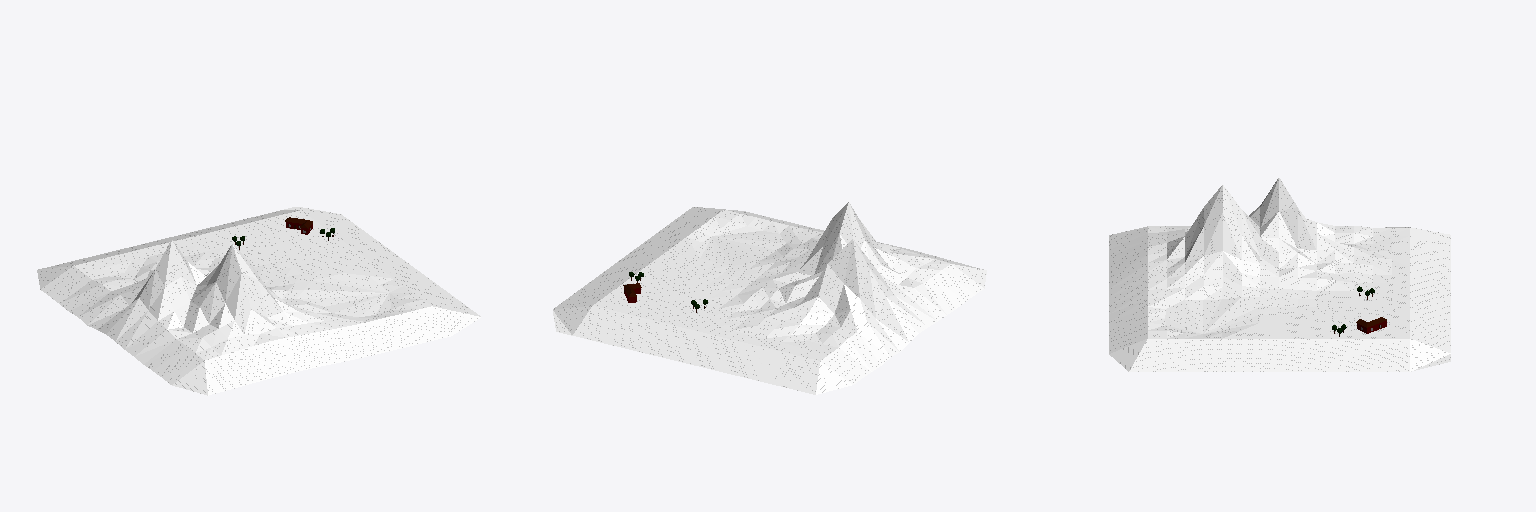
3 views of the same model, side by side, from view 1: azimuth 30°, elevation 25°; view 2: azimuth 150°, elevation 25°; view 3: azimuth 270°, elevation 25° (orthographic).
Parts seen in each view (by area): view 1: Plane_Plane.001; view 2: Plane_Plane.001; view 3: Plane_Plane.001.
Boxes of the visible parts, box(x1,y1,x2,y2) form: Plane_Plane.001: box(37, 207, 480, 395); Plane_Plane.001: box(553, 202, 986, 394); Plane_Plane.001: box(1109, 178, 1450, 371).
Bounding box in the file's own units: 324 × 95.13 × 319.
12 materials, 1 textured.